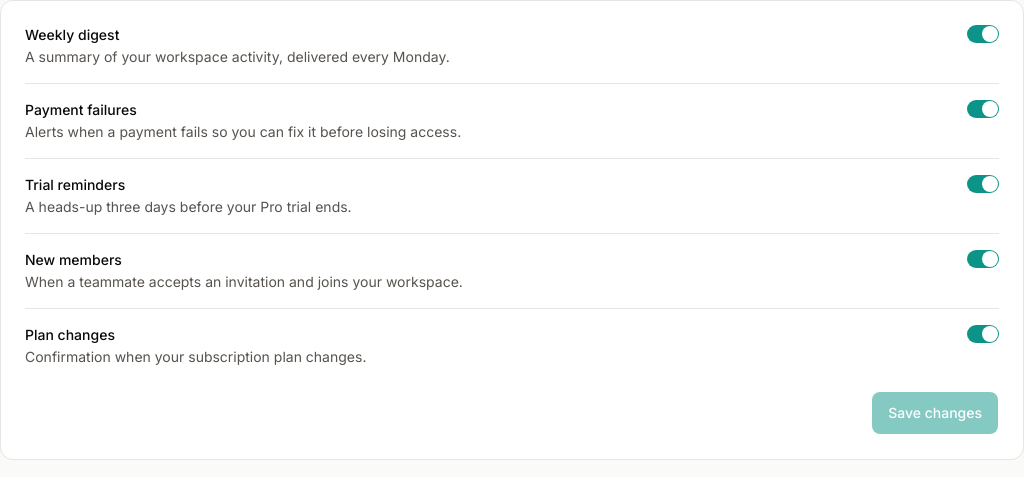
NotificationsForm › submits only the toggled-off draft and shows a success toast
Click the switch named "Weekly digest". click: (983, 34)
box: [967,25,999,43]
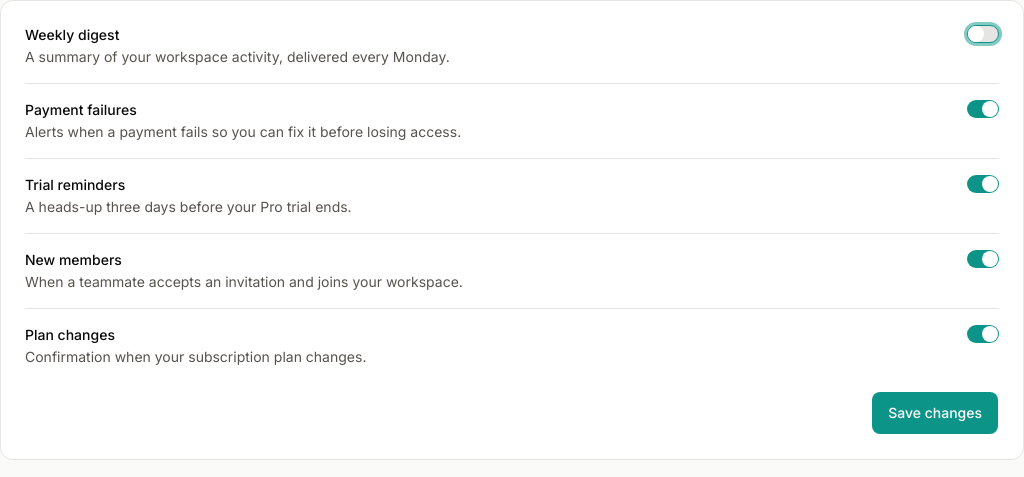
Click the button "Save changes". click: (935, 413)
box: [871,391,999,435]
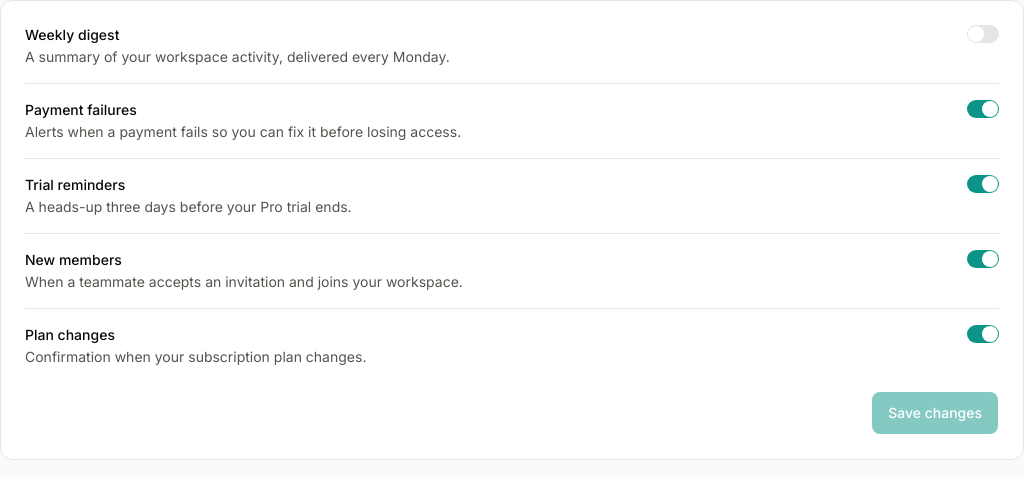
Expected: the button "Save changes" is disabled, [871,391,999,435]
